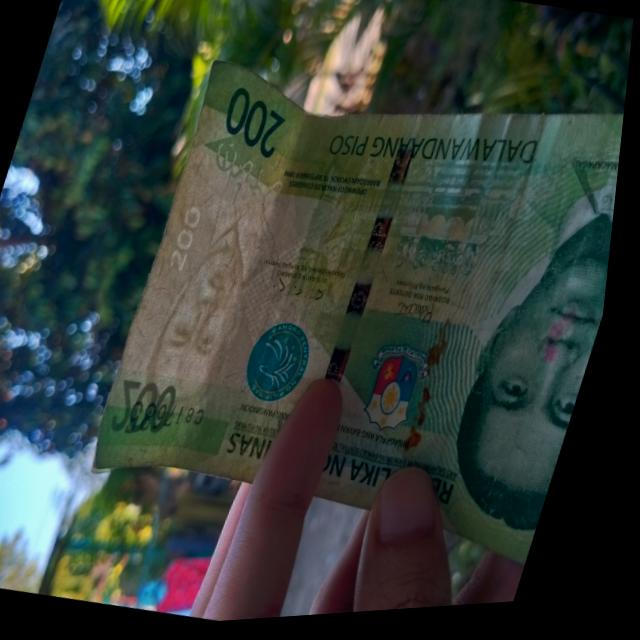security_thread: (330, 117, 428, 392)
see_through_mark: (204, 132, 303, 207)
serial_number: (127, 389, 222, 460)
value_watermark: (164, 205, 210, 283)
watermark: (140, 170, 299, 429)
